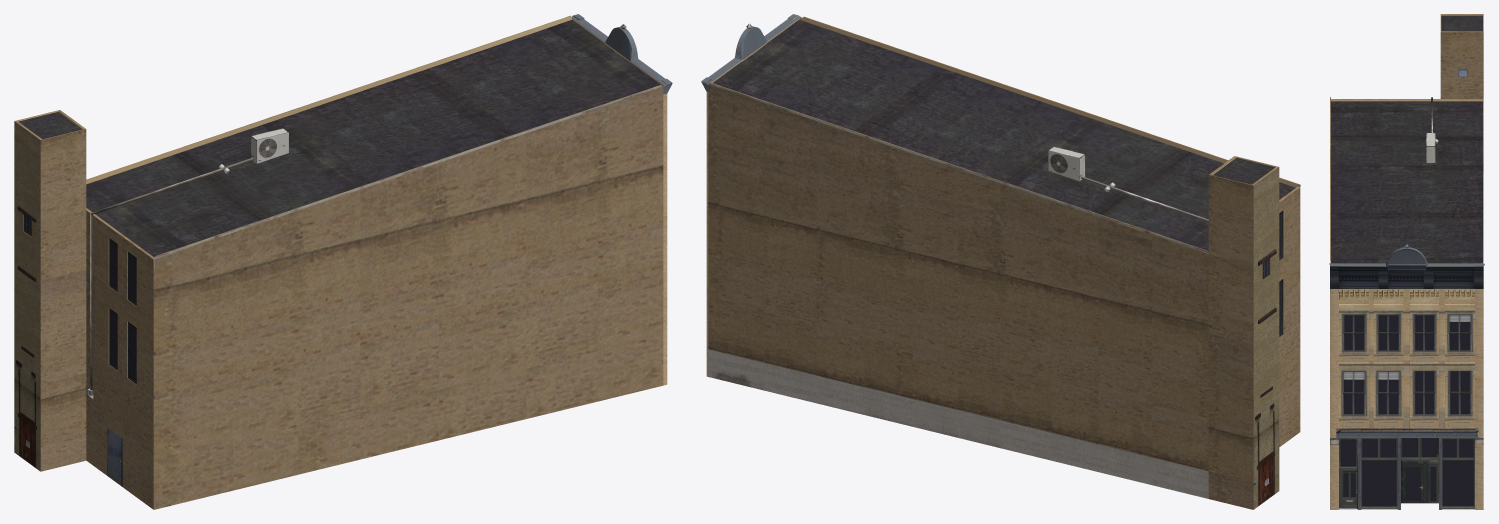
3 views of the same model, side by side, from view 1: azimuth 30°, elevation 25°; view 2: azimuth 150°, elevation 25°; view 3: azimuth 270°, elevation 25° (orthographic). The views are drawn at different scales.
Visible parts, largest first — view 1: Object_3; view 2: Object_3; view 3: Object_3.
Boxes of the visible parts, x1,y1,x2,y2 form: Object_3: (14,14,672,509); Object_3: (701,14,1300,509); Object_3: (1329,14,1484,509).
Size of the model in its own units: 2757 by 1542 by 800.
Materials: 1 (1 with a texture image).
